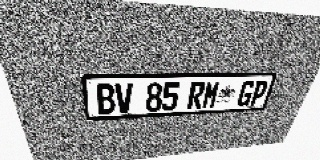5: (161, 82, 180, 111)
8: (145, 82, 163, 112)
B: (95, 83, 115, 115)
G: (236, 80, 256, 107)
M: (201, 81, 221, 109)
P: (248, 80, 269, 106)
R: (187, 81, 206, 109)
V: (115, 83, 133, 114)
